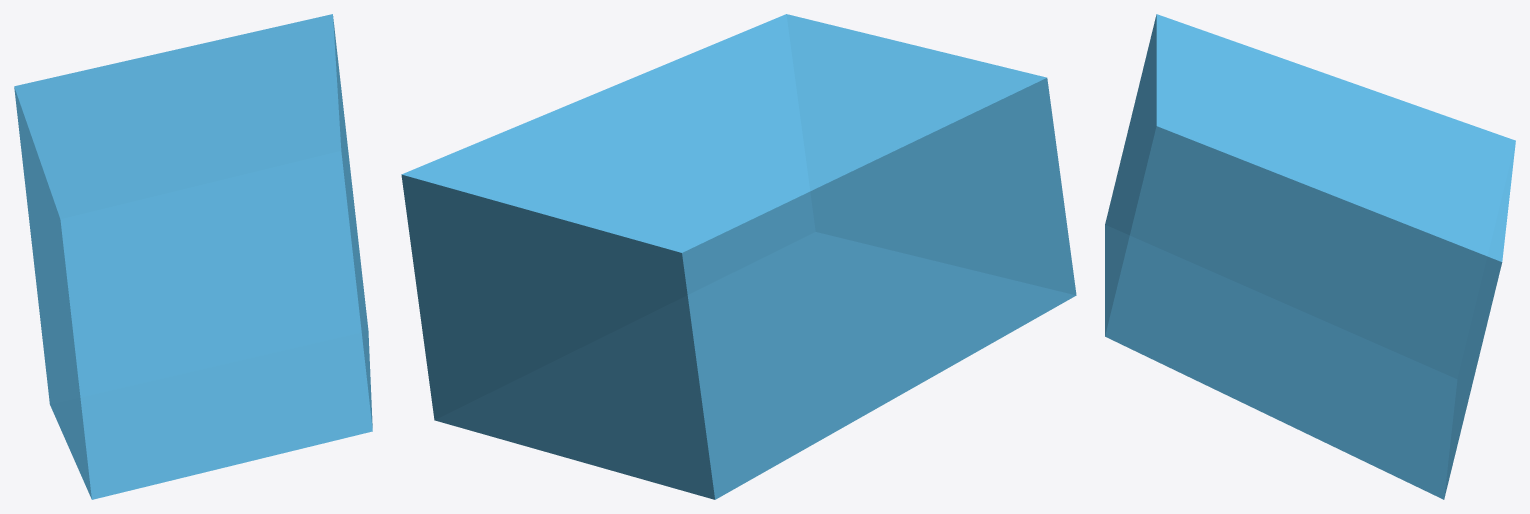
Rendered from Event_420107950_HBrechit_24.fbx.
3 views of the same model, side by side, from view 1: azimuth 30°, elevation 25°; view 2: azimuth 150°, elevation 25°; view 3: azimuth 270°, elevation 25° (orthographic). The views are drawn at different scales.
Parts seen in each view (by area): view 1: Model; view 2: Model; view 3: Model.
Boxes of the visible parts, x1,y1,x2,y2 form: Model: (14,14,372,499); Model: (401,14,1076,499); Model: (1105,14,1515,499).
Size of the model in its own units: 0.771 by 0.5515 by 0.6934.
